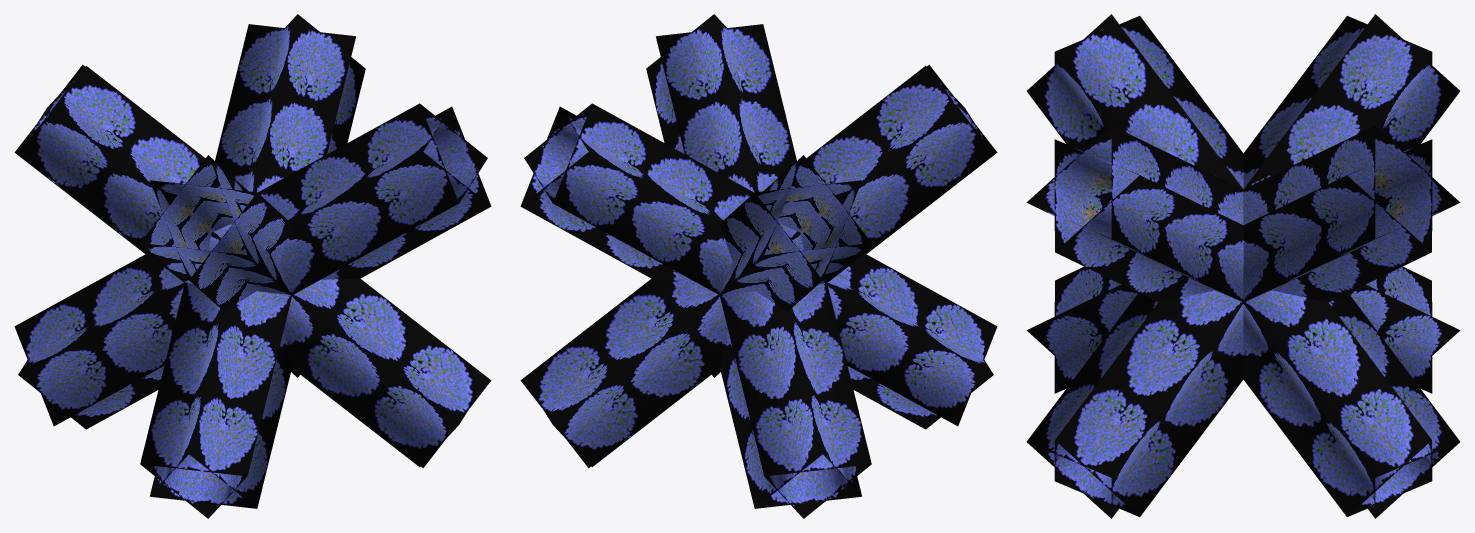
The model's file is StarHexahemioctacron7.gltf.
The picture shows the model from 3 angles, left to right: view 1: azimuth 30°, elevation 25°; view 2: azimuth 150°, elevation 25°; view 3: azimuth 270°, elevation 25°; orthographic projection. The views are drawn at different scales.
Parts seen in each view (by area): view 1: StarHexahemioctacron; view 2: StarHexahemioctacron; view 3: StarHexahemioctacron.
Part boxes in pixels (<box>): StarHexahemioctacron: <box>14,14,491,518</box>; StarHexahemioctacron: <box>520,14,997,518</box>; StarHexahemioctacron: <box>1026,14,1460,518</box>.
Size of the model in its own units: 6.25 by 6.25 by 6.25.
1 material, 1 textured.
